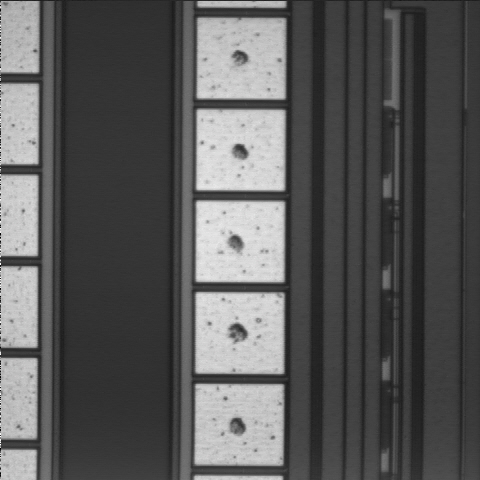pad: (196, 292, 284, 374), (197, 18, 285, 99), (196, 201, 284, 282), (195, 384, 283, 465), (196, 110, 285, 190)
